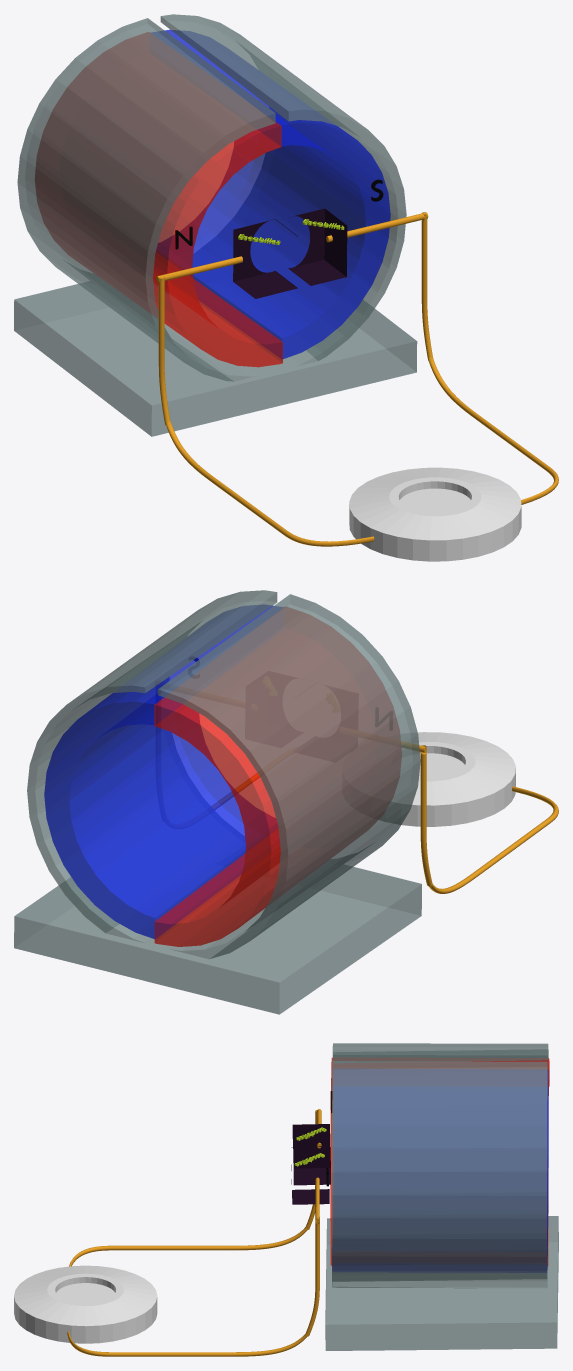
File: Generador.dae
The picture shows the model from 3 angles, top to bottom: view 1: azimuth 30°, elevation 25°; view 2: azimuth 150°, elevation 25°; view 3: azimuth 270°, elevation 25°; orthographic projection. The views are drawn at different scales.
Visible parts, largest first — view 1: Cubierta, ImanPolNeg.001, ImanPolNeg, Cylinder, Cilindro.013, Cubo.002, Cilindro.014, Cubo.003; view 2: Cubierta, ImanPolNeg.001, ImanPolNeg, Cylinder, Cilindro.013; view 3: Cubierta, ImanPolNeg, Cylinder, ImanPolNeg.001, Cubo.003, Cilindro.014, Cilindro.013, Cubo.002.
Part boxes in pixels (bbox=[...]): Cubierta: bbox=[14, 14, 417, 436]; ImanPolNeg.001: bbox=[35, 32, 282, 367]; ImanPolNeg: bbox=[152, 29, 390, 358]; Cylinder: bbox=[349, 467, 521, 561]; Cilindro.013: bbox=[156, 256, 374, 546]; Cubo.002: bbox=[288, 208, 347, 285]; Cilindro.014: bbox=[326, 212, 558, 504]; Cubo.003: bbox=[233, 219, 297, 298]; Cubierta: bbox=[14, 590, 421, 1014]; ImanPolNeg.001: bbox=[154, 607, 401, 946]; ImanPolNeg: bbox=[44, 605, 282, 938]; Cylinder: bbox=[379, 732, 515, 826]; Cilindro.013: bbox=[401, 741, 558, 893]; Cubierta: bbox=[325, 1043, 558, 1350]; ImanPolNeg: bbox=[333, 1069, 548, 1272]; Cylinder: bbox=[14, 1265, 157, 1343]; ImanPolNeg.001: bbox=[330, 1057, 549, 1265]; Cubo.003: bbox=[292, 1124, 330, 1185]; Cilindro.014: bbox=[67, 1177, 319, 1356]; Cilindro.013: bbox=[69, 1109, 321, 1266]; Cubo.002: bbox=[291, 1146, 329, 1204].
Bounding box in the file's own units: 2.27 × 4.73 × 2.44.
